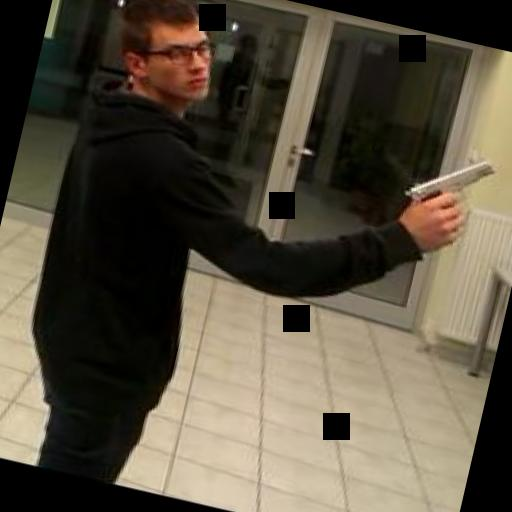Handgun: (391, 142, 501, 246)
